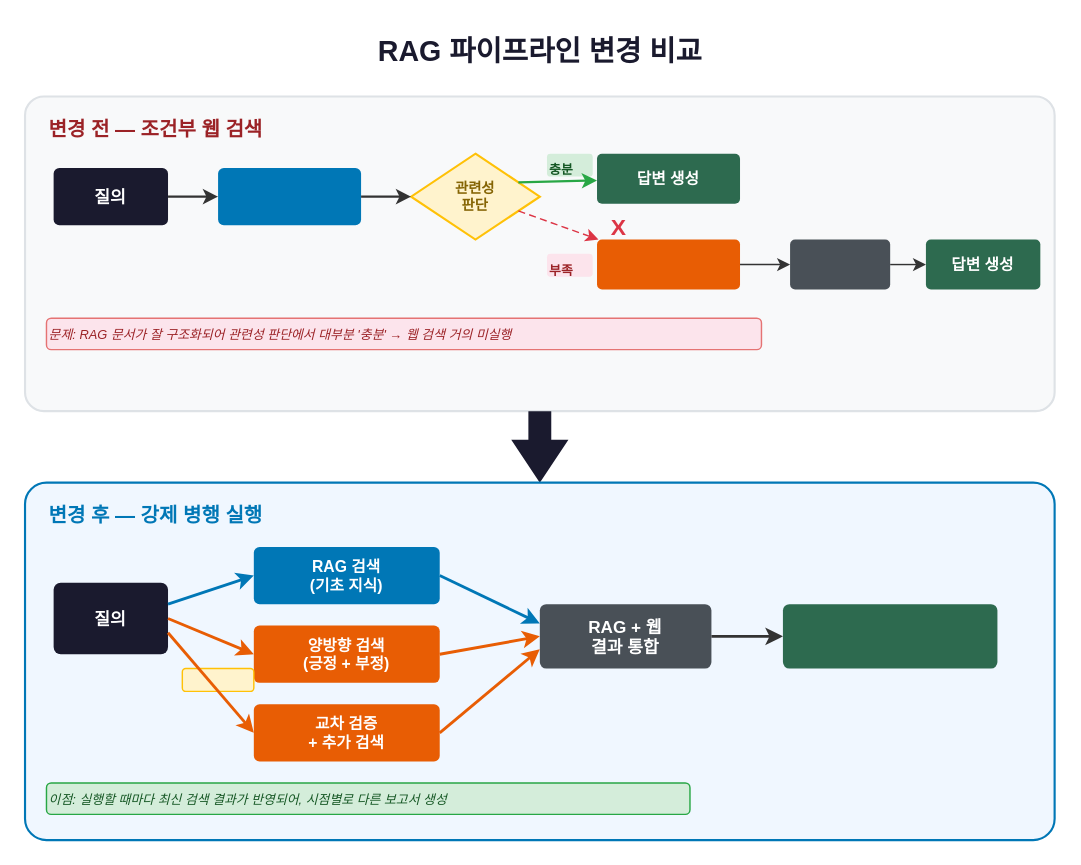
This 1081x865 diagram has some shape labels left out. The centre of each missing label's shape, as x and y in pixels:
LLM 답변 생성 (웹 최신 우선): the point at 889,635
RAG 검색: the point at 288,196
웹 검색: the point at 667,264
통합: the point at 839,264
항상 실행: the point at 217,679
